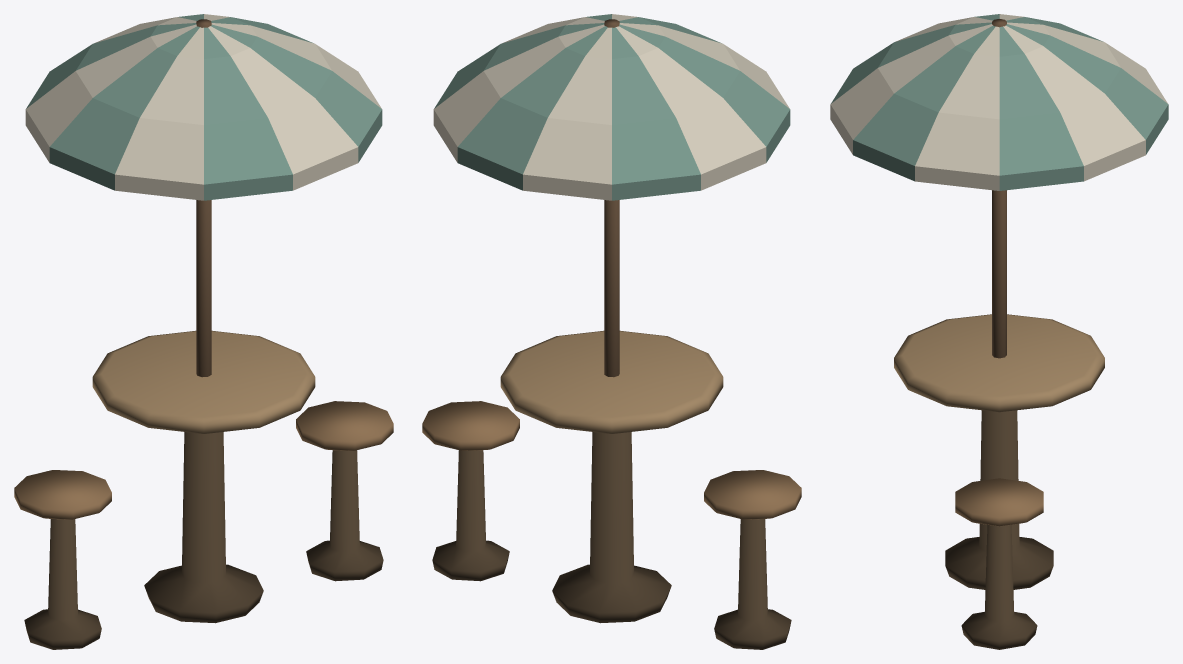
The model's file is umbrella_table.glb.
3 renders of one model, left to right at view 1: azimuth 30°, elevation 25°; view 2: azimuth 150°, elevation 25°; view 3: azimuth 270°, elevation 25°, orthographic. The views are drawn at different scales.
Visible parts, largest first — view 1: umbrella_table; view 2: umbrella_table; view 3: umbrella_table.
Part boxes in pixels (x1,y1,x2,y2): umbrella_table: [14, 14, 393, 649]; umbrella_table: [422, 14, 801, 649]; umbrella_table: [830, 14, 1168, 649].
Bounding box in the file's own units: 1.9 × 2.86 × 1.6.
